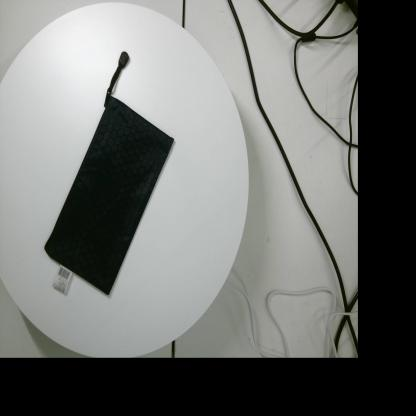Stationery: (44, 52, 174, 295)
